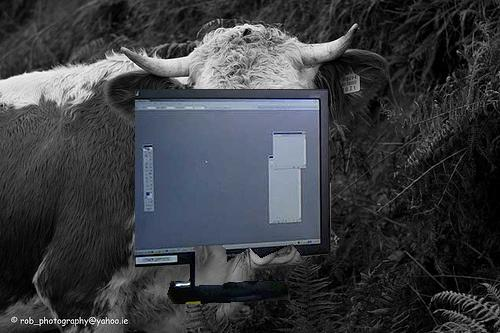tampered: (136, 90, 331, 304)
